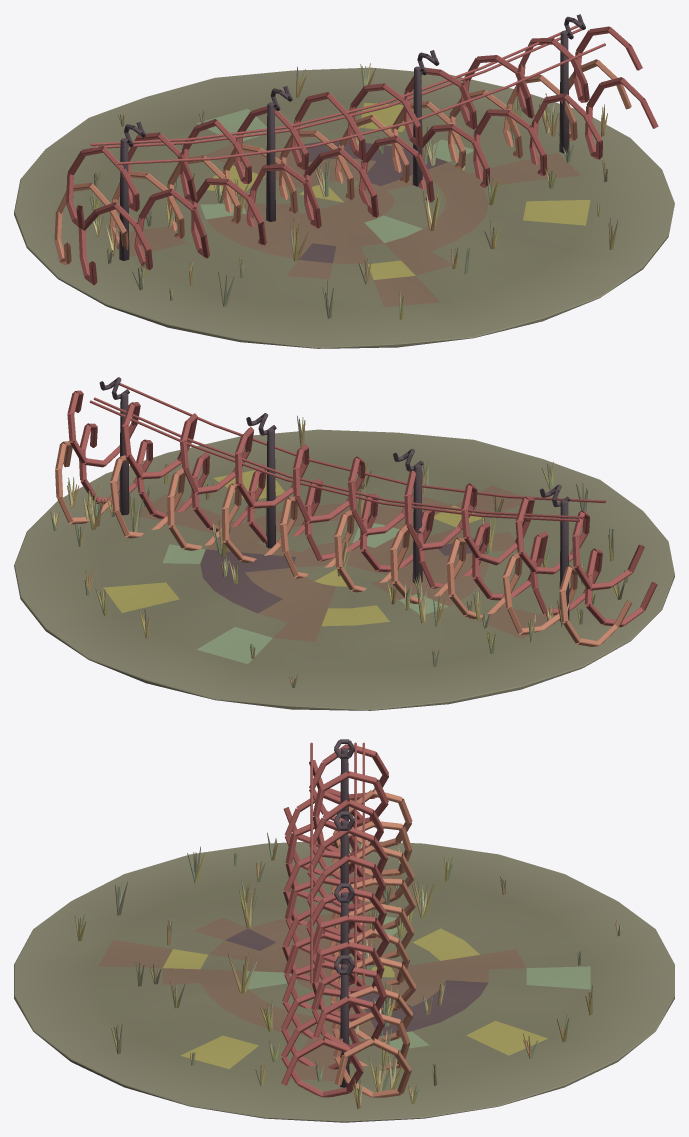
The model's file is wire_obstacles_v2.glb.
3 renders of one model, top to bottom at view 1: azimuth 30°, elevation 25°; view 2: azimuth 150°, elevation 25°; view 3: azimuth 270°, elevation 25°, orthographic.
Visible parts, largest first — view 1: Body; view 2: Body; view 3: Body.
Part boxes in pixels (box(x1,y1,x2,y2)): Body: box(14, 14, 674, 348); Body: box(14, 377, 674, 710); Body: box(14, 739, 674, 1122).
Bounding box in the file's own units: 0.9372 × 0.2209 × 0.9304.
